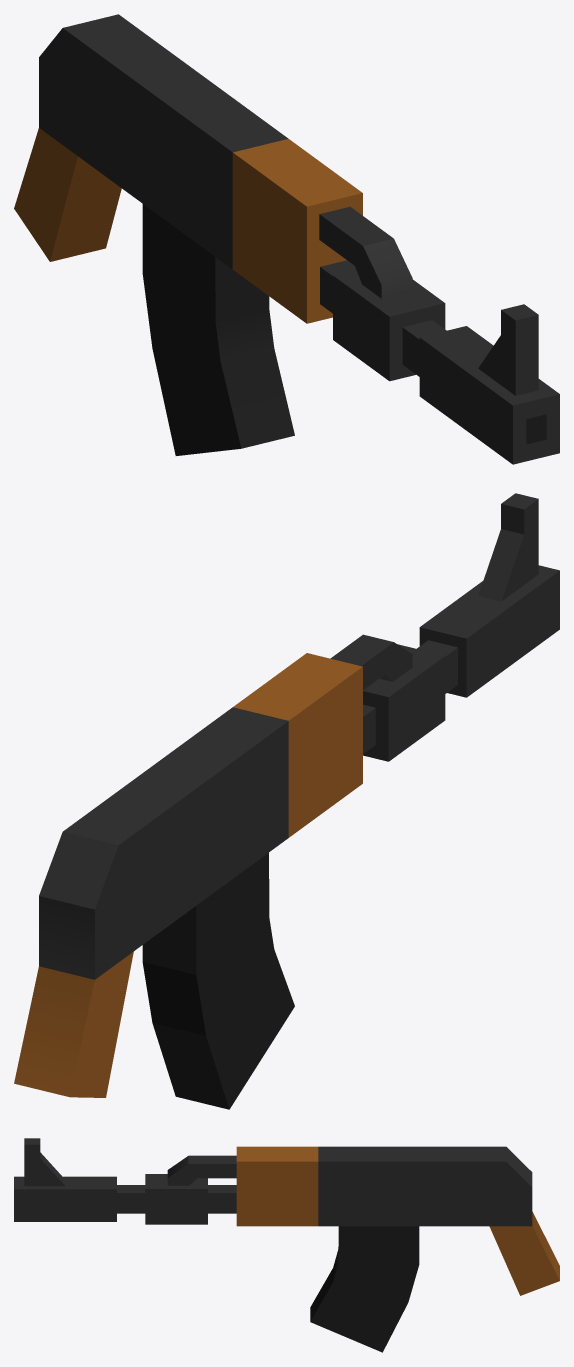
The picture shows the model from 3 angles, top to bottom: view 1: azimuth 30°, elevation 25°; view 2: azimuth 150°, elevation 25°; view 3: azimuth 270°, elevation 25°; orthographic projection. The views are drawn at different scales.
Visible parts, largest first — view 1: Ak_47; view 2: Ak_47; view 3: Ak_47.
Boxes of the visible parts, x1,y1,x2,y2 form: Ak_47: [14, 14, 559, 464]; Ak_47: [14, 493, 559, 1109]; Ak_47: [14, 1138, 559, 1352].
Size of the model in its own units: 0.05 by 0.3155 by 0.7651.
